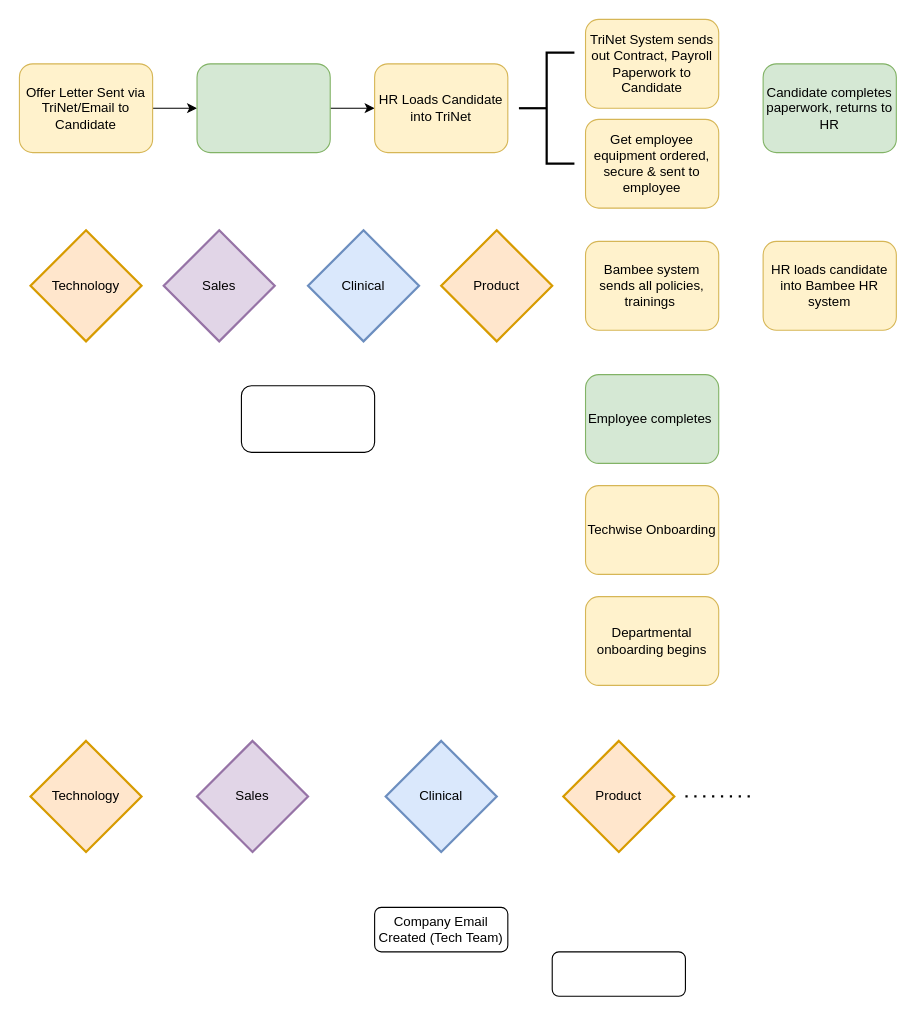
Image size: 916x1016. Some labels were removed from this diagram. The shapes that lost their labels are listed below. From the top down, each one's box as (x1, y1, x2, y2) in pixels, then its label:
(196, 63, 330, 153): Candidate Accepts Offer Letter & Sends Back to HR
(240, 385, 375, 452): HIPAA, Govt. Mandated, Trellus Company overview, MS Teams
